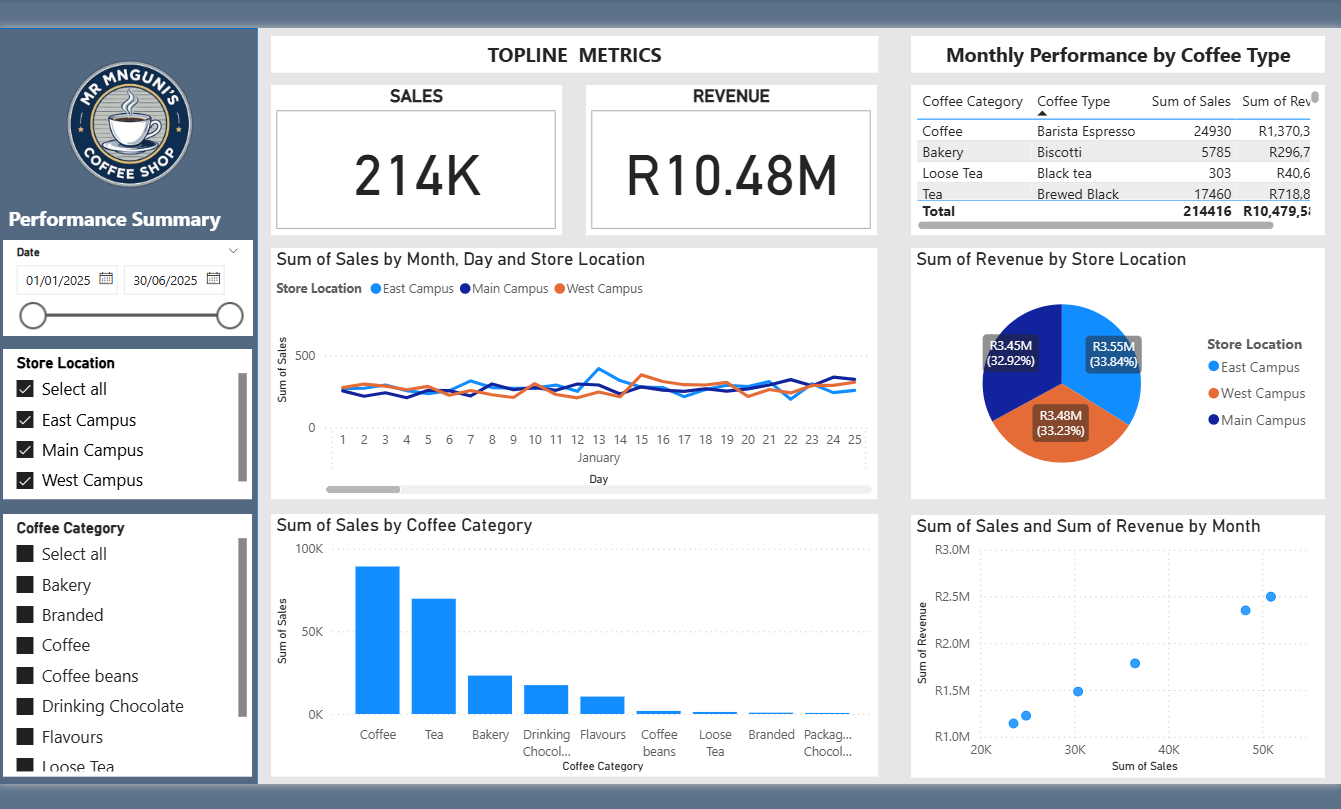

The dashboard page shown, as its layout file describes it:
{"tool":"powerbi","page":{"name":"Topline Summary","canvas":[1280,720],"ordinal":0},"visuals":[{"type":"shape","box":[0,0,247.4,720.4],"z":0},{"type":"image","box":[0,0,247.4,182.7],"z":1000},{"type":"textbox","box":[4.8,163.7,237,38.1],"z":2000},{"type":"slicer","fields":{"Values":["public coffee_sales_data_bi_analytics_view.store_location"]},"box":[4.8,305.5,237,142.8],"z":3000},{"type":"slicer","fields":{"Values":["public coffee_sales_data_bi_analytics_view.transaction_date"]},"box":[4.8,201.8,237,91.4],"z":4000},{"type":"slicer","fields":{"Values":["public coffee_sales_data_bi_analytics_view.product_category"]},"box":[4.8,462.5,237,250.3],"z":5000},{"type":"cardVisual","title":"SALES","fields":{"Data":["Sum(public coffee_sales_data_bi_analytics_view.transaction_qty)"]},"box":[259.8,54.2,276.9,142.8],"z":6000},{"type":"cardVisual","title":"REVENUE","fields":{"Data":["Sum(public coffee_sales_data_bi_analytics_view.total_amount)"]},"box":[559.6,54.2,276.9,142.8],"z":7000},{"type":"textbox","box":[259.8,7.6,577.7,35.2],"z":8000},{"type":"lineChart","fields":{"Category":["public coffee_sales_data_bi_analytics_view.month"],"Series":["public coffee_sales_data_bi_analytics_view.store_location"],"Y":["Sum(public coffee_sales_data_bi_analytics_view.transaction_qty)"]},"box":[259.8,209.4,576.7,238.9],"z":9000},{"type":"columnChart","fields":{"Category":["public coffee_sales_data_bi_analytics_view.product_category"],"Y":["Sum(public coffee_sales_data_bi_analytics_view.transaction_qty)"]},"box":[259.8,462.5,577.7,250.3],"z":10000},{"type":"pieChart","fields":{"Category":["public coffee_sales_data_bi_analytics_view.store_location"],"Y":["Sum(public coffee_sales_data_bi_analytics_view.total_amount)"]},"box":[868.9,209.4,394,238.9],"z":11000},{"type":"scatterChart","fields":{"X":["public coffee_sales_data_bi_analytics_view.transaction_date.Variation.Date Hierarchy.Day"],"Y":["Sum(public coffee_sales_data_bi_analytics_view.total_amount)"]},"box":[869,463,394,250],"z":12000},{"type":"tableEx","fields":{"Values":["public coffee_sales_data_bi_analytics_view.product_category","public coffee_sales_data_bi_analytics_view.product_type","Sum(public coffee_sales_data_bi_analytics_view.transaction_qty)","Sum(public coffee_sales_data_bi_analytics_view.total_amount)"]},"box":[868.9,54.2,394,142.8],"z":13000},{"type":"textbox","box":[868.9,7.6,394,35.2],"z":14000},{"type":"actionButton","box":[0,0,100,40],"z":15000}]}

Visuals, with their boxes in screenshot pixels (x1, y1, x2, y2):
shape: [0,45,252,790]
image: [0,45,252,234]
textbox: [1,215,246,254]
slicer - public coffee_sales_data_bi_analytics_view.store_location: [1,361,246,509]
slicer - public coffee_sales_data_bi_analytics_view.transaction_date: [1,254,246,348]
slicer - public coffee_sales_data_bi_analytics_view.product_category: [1,523,246,782]
"SALES" cardVisual: [265,101,551,249]
"REVENUE" cardVisual: [575,101,861,249]
textbox: [265,53,862,90]
lineChart - public coffee_sales_data_bi_analytics_view.month x public coffee_sales_data_bi_analytics_view.store_location: [265,262,861,509]
columnChart - public coffee_sales_data_bi_analytics_view.product_category x Sum(public coffee_sales_data_bi_analytics_view.transaction_qty): [265,523,862,782]
pieChart - public coffee_sales_data_bi_analytics_view.store_location x Sum(public coffee_sales_data_bi_analytics_view.total_amount): [894,262,1301,509]
scatterChart - public coffee_sales_data_bi_analytics_view.transaction_date.Variation.Date Hierarchy.Day x Sum(public coffee_sales_data_bi_analytics_view.total_amount): [894,524,1301,782]
tableEx - public coffee_sales_data_bi_analytics_view.product_category x public coffee_sales_data_bi_analytics_view.product_type: [894,101,1301,249]
textbox: [894,53,1301,90]
actionButton: [0,45,100,87]
